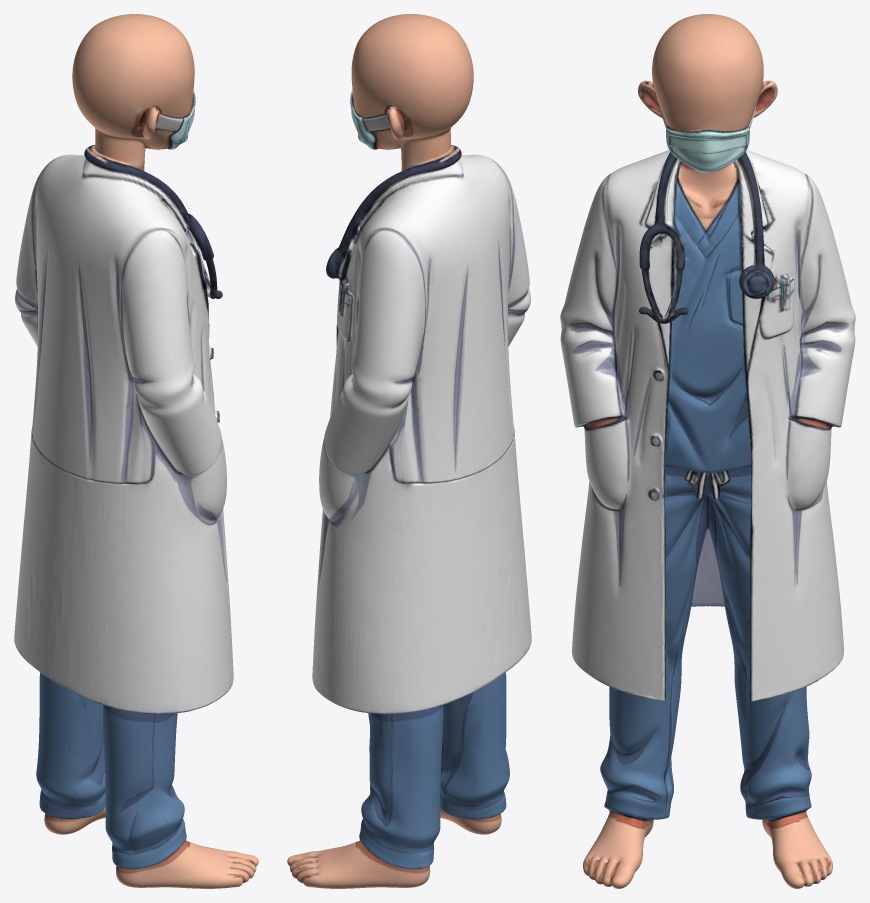
The model's file is medical+professional+3d+model.glb.
3 renders of one model, left to right at view 1: azimuth 30°, elevation 25°; view 2: azimuth 150°, elevation 25°; view 3: azimuth 270°, elevation 25°, orthographic.
Parts seen in each view (by area): view 1: tripo_node_b0b29e8b-e811-4762-831f-09fb29a3e49a; view 2: tripo_node_b0b29e8b-e811-4762-831f-09fb29a3e49a; view 3: tripo_node_b0b29e8b-e811-4762-831f-09fb29a3e49a.
Part boxes in pixels (x1,y1,x2,y2): tripo_node_b0b29e8b-e811-4762-831f-09fb29a3e49a: (14,14,258,888); tripo_node_b0b29e8b-e811-4762-831f-09fb29a3e49a: (287,14,531,888); tripo_node_b0b29e8b-e811-4762-831f-09fb29a3e49a: (560,14,855,888).
Bounding box in the file's own units: 0.2167 × 1 × 0.3216.
Materials: 1 (1 with a texture image).
